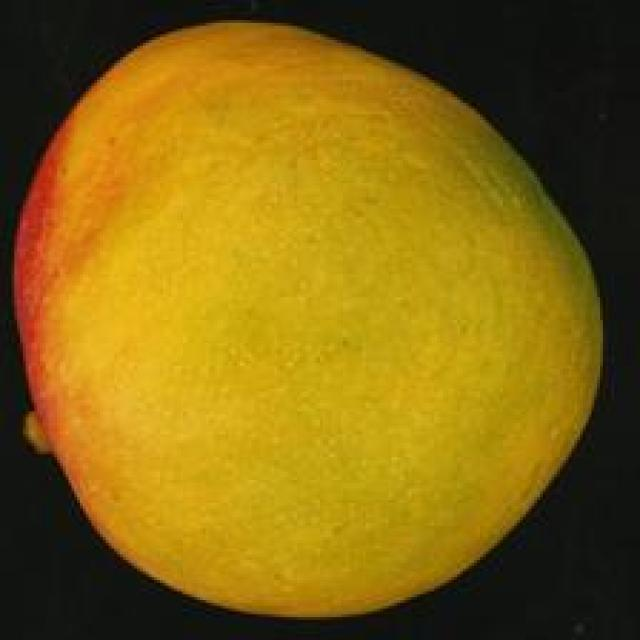Good_Mango: (11, 20, 603, 623)
